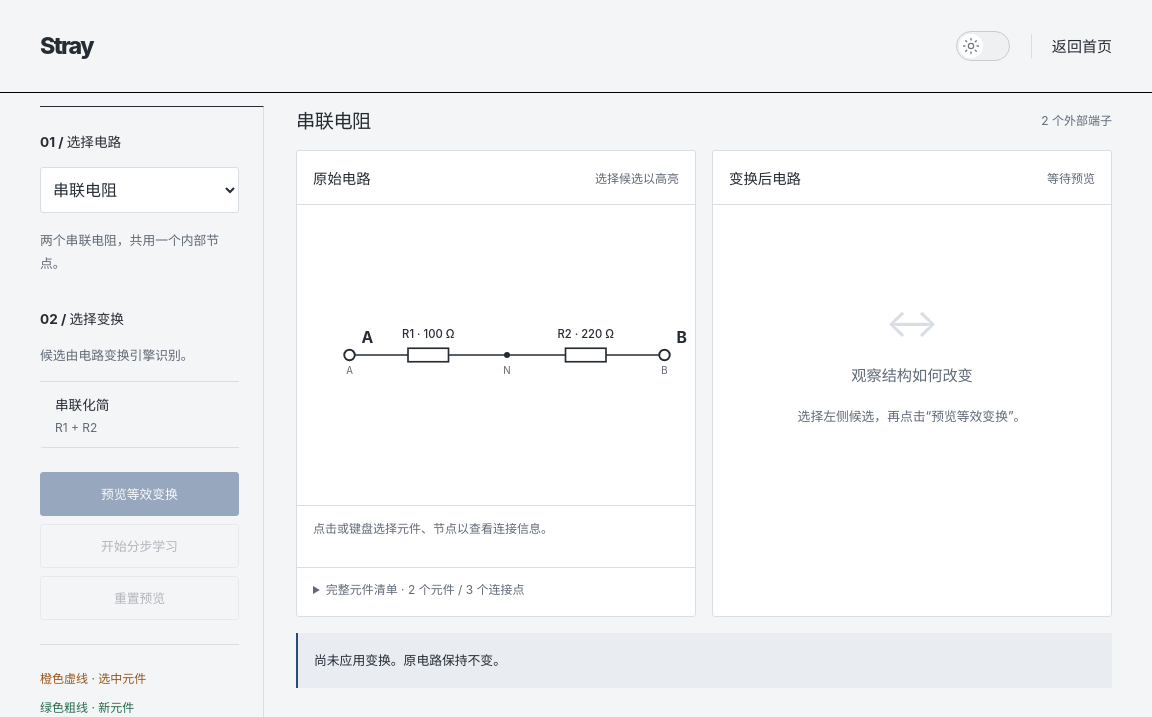
it: M5 learning mode integration › reuses an existing M4 preview when starting learning
(page scrolled)
Click the button "串联化简 R1 + R2".
click(140, 414)  # box [40,382,239,448]
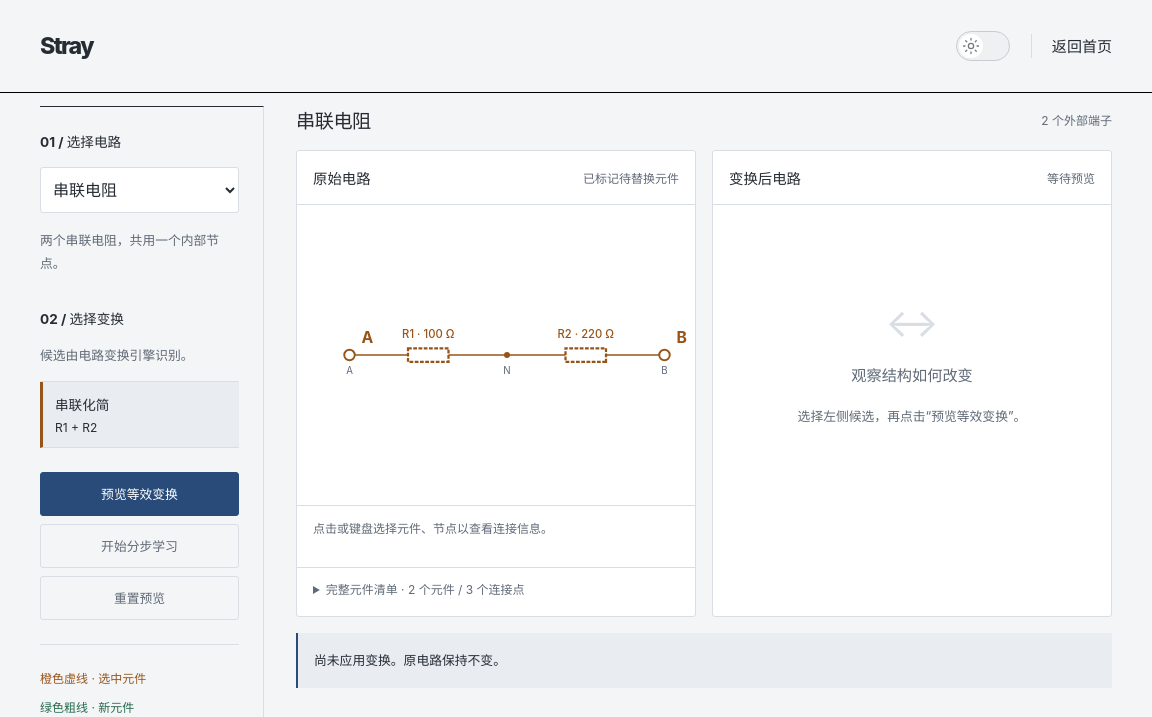
Click the button "预览等效变换".
click(140, 494)  # box [40,472,239,516]
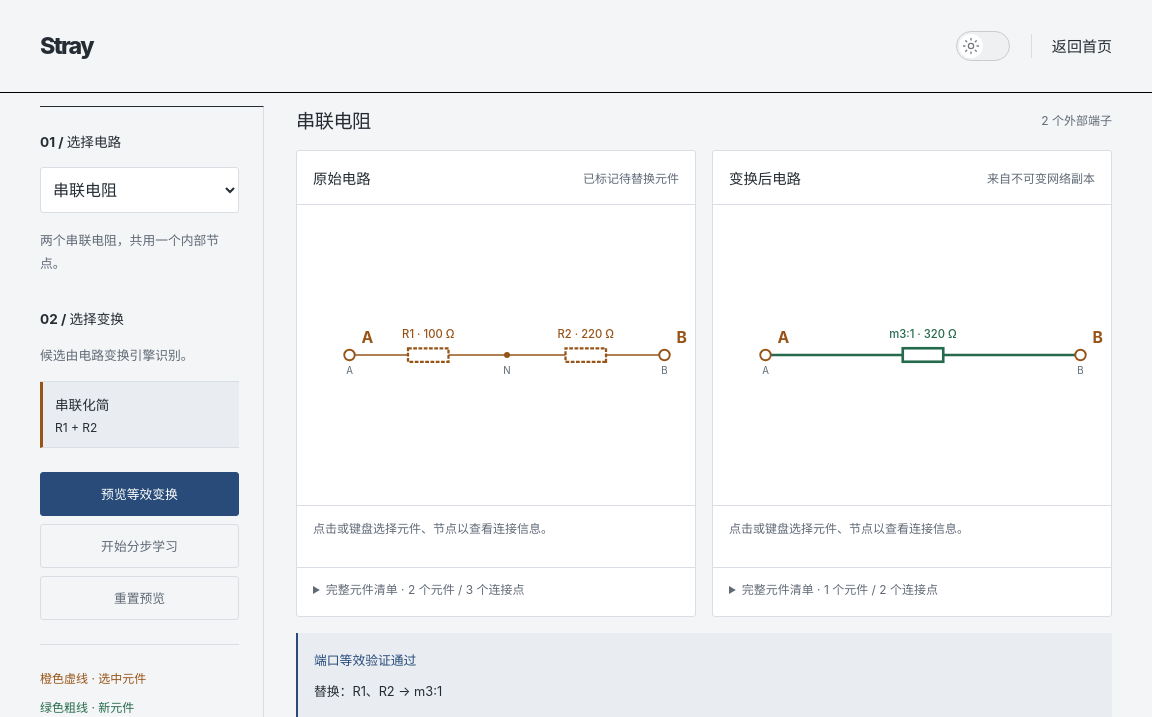
Click the button "开始分步学习".
click(140, 546)  # box [40,524,239,568]
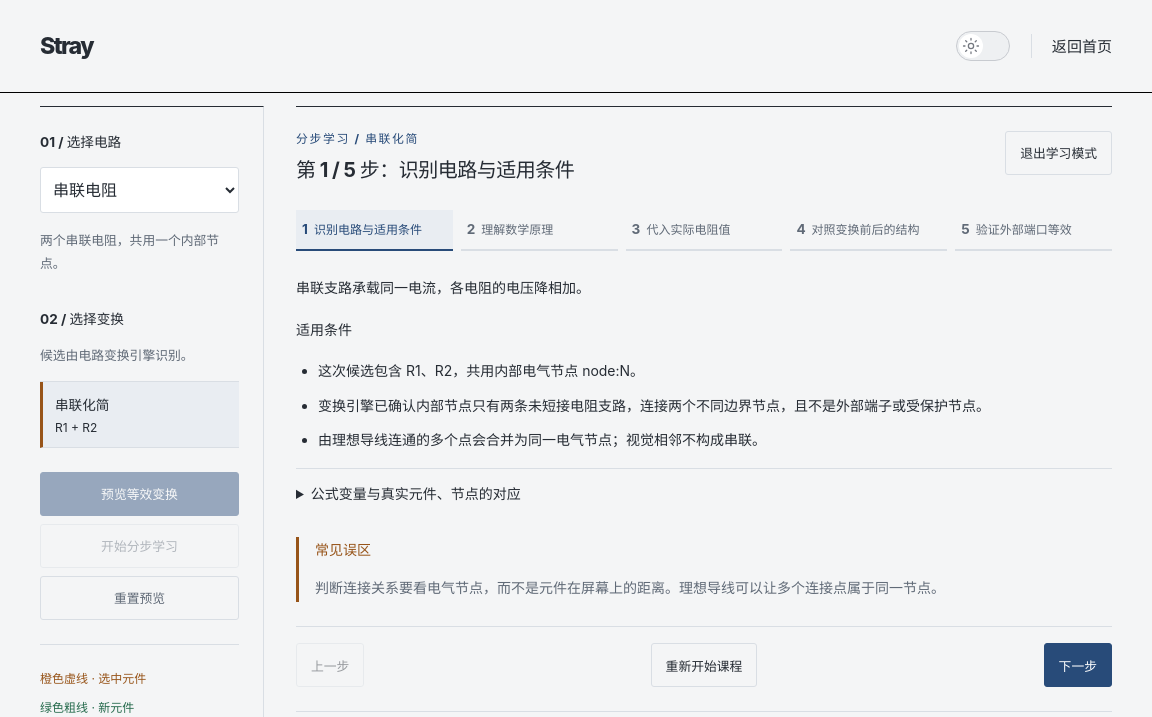
Check: the heading "第 1 / 5 步：识别电路与适用条件" is shown, box [296,154,574,186]
